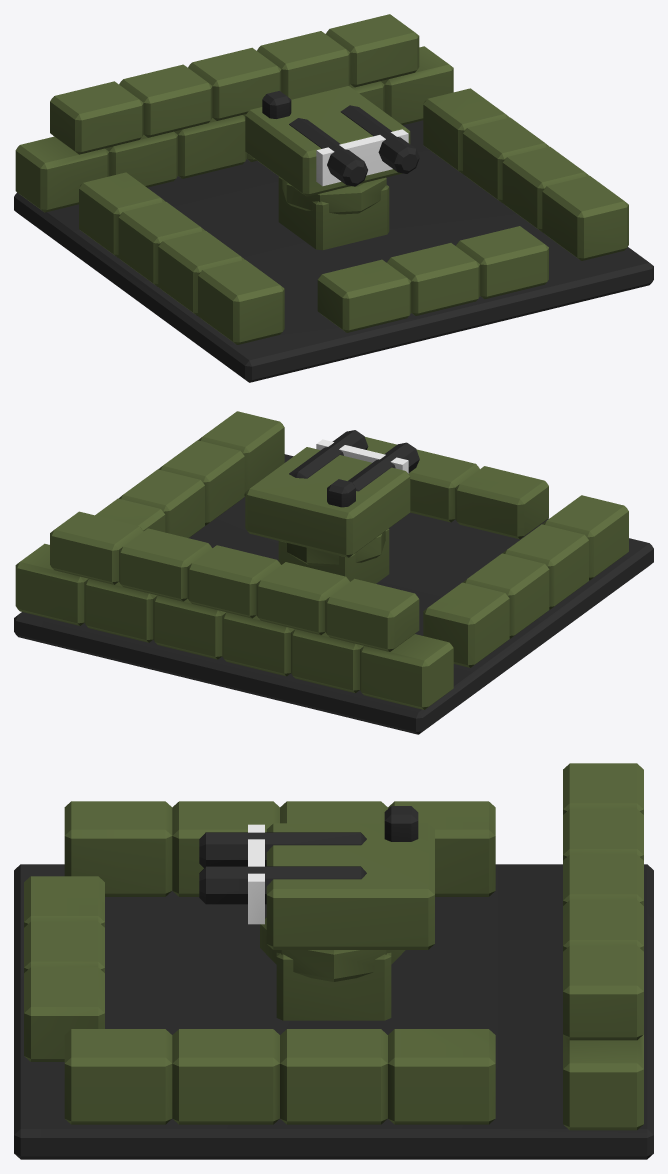
File: ua-defense.glb
3 views of the same model, one above another, from view 1: azimuth 30°, elevation 25°; view 2: azimuth 150°, elevation 25°; view 3: azimuth 270°, elevation 25° (orthographic). The views are drawn at different scales.
Visible parts, largest first — view 1: ua-defense, turret; view 2: ua-defense, turret; view 3: ua-defense, turret.
Boxes of the visible parts, x1,y1,x2,y2 form: ua-defense: (14,14,653,382); turret: (245,86,419,214); ua-defense: (14,411,653,734); turret: (245,430,419,566); ua-defense: (14,763,653,1159); turret: (199,806,434,981).
Size of the model in its own units: 1.92 by 0.64 by 1.9.
